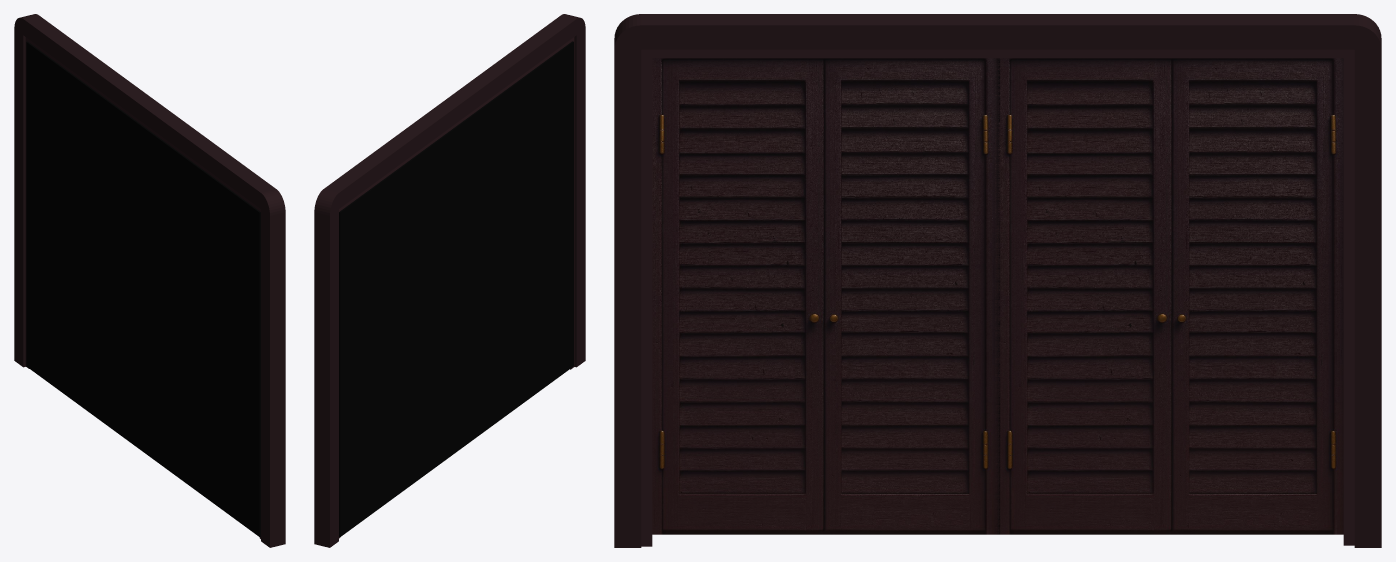
File: ropa.obj
3 views of the same model, side by side, from view 1: azimuth 30°, elevation 25°; view 2: azimuth 150°, elevation 25°; view 3: azimuth 270°, elevation 25° (orthographic). The views are drawn at different scales.
Parts seen in each view (by area): view 1: Cube.009, Cube.003, Cube.007, Cube.001, Cube.002, Cube.008; view 2: Cube.003, Cube.009, Cube.001, Cube.007, Cube.008, Cube.002; view 3: Cube.009, Cube.003, Cube.001, Cube.007, Cube.002, Cube.008.
Part boxes in pixels (x1,y1,x2,y2): Cube.009: (142,126,260,536); Cube.003: (26,41,143,450); Cube.007: (126,94,285,547); Cube.001: (14,14,172,367); Cube.002: (25,37,155,368); Cube.008: (129,113,260,538); Cube.003: (339,127,457,536); Cube.009: (455,41,573,450); Cube.001: (314,91,472,547); Cube.007: (428,14,585,367); Cube.008: (440,37,574,369); Cube.002: (339,135,440,538); Cube.009: (652,58,1000,534); Cube.003: (995,58,1343,534); Cube.001: (951,14,1381,547); Cube.007: (614,14,1041,547); Cube.002: (952,49,1354,545); Cube.008: (641,49,952,546).
Bounding box in the file's own units: 1 × 21.44 × 28.52.
6 materials, 6 textured.
